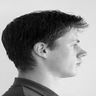ear: (27, 36, 55, 63)
